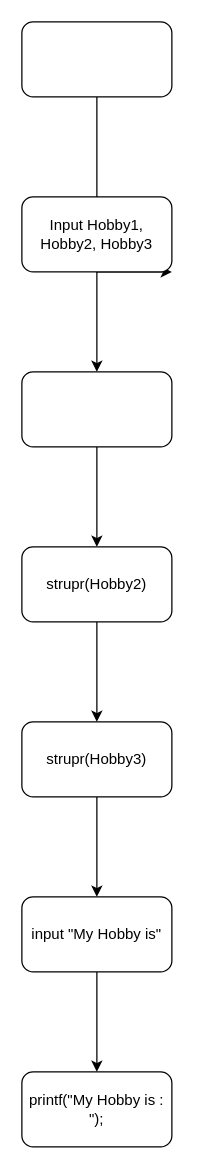
Image size: 204x1169. Some labels were removed from this diagram. The centre of each missing label's shape, as x and y in pixels:
"String Hobby1, Hobby2, Hobby3" goes at point 96,59.
"strupr(Hobby1)" goes at point 96,409.
